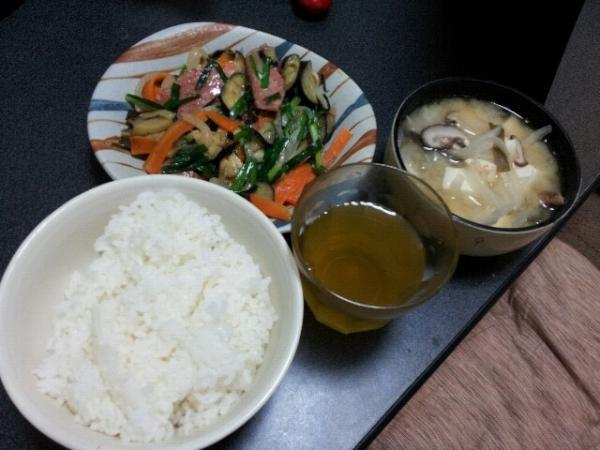plate: (87, 22, 375, 178)
rice: (34, 190, 280, 442)
